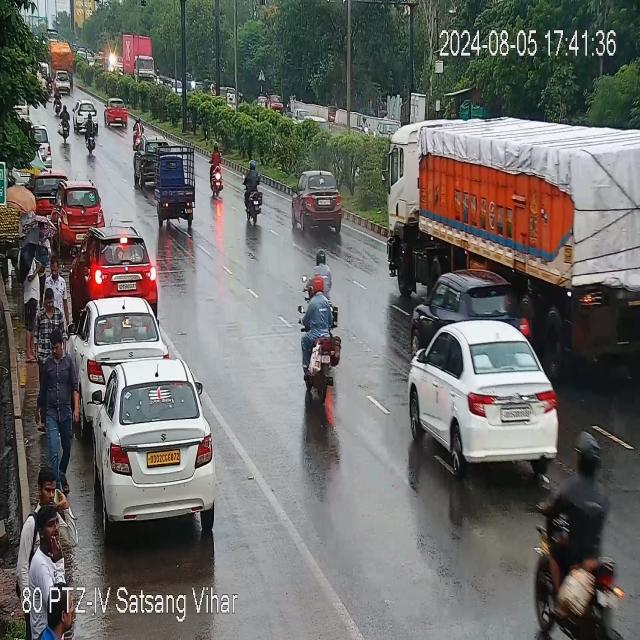2-wheelers: (536, 442, 625, 640), (299, 278, 344, 397), (240, 160, 270, 224), (208, 146, 226, 200), (84, 116, 102, 154), (132, 116, 144, 150)
auto: (152, 156, 196, 228), (329, 105, 335, 121)
bus: (391, 105, 640, 321)
car: (402, 318, 559, 479), (90, 364, 214, 534), (74, 296, 160, 388), (82, 227, 156, 305), (296, 171, 349, 233), (53, 182, 106, 243), (132, 135, 170, 186), (31, 173, 67, 212), (28, 126, 56, 166), (74, 98, 95, 133), (105, 97, 129, 125), (270, 92, 282, 114)
pedestrian: (38, 342, 79, 466), (30, 294, 65, 427), (31, 504, 68, 569), (25, 252, 39, 350), (34, 467, 67, 504), (44, 258, 70, 304), (38, 224, 50, 249)
truck: (121, 34, 155, 85), (50, 45, 75, 86)
